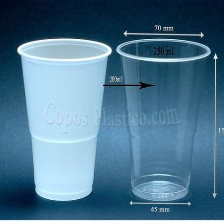glass: (114, 32, 215, 210), (13, 33, 113, 205)
